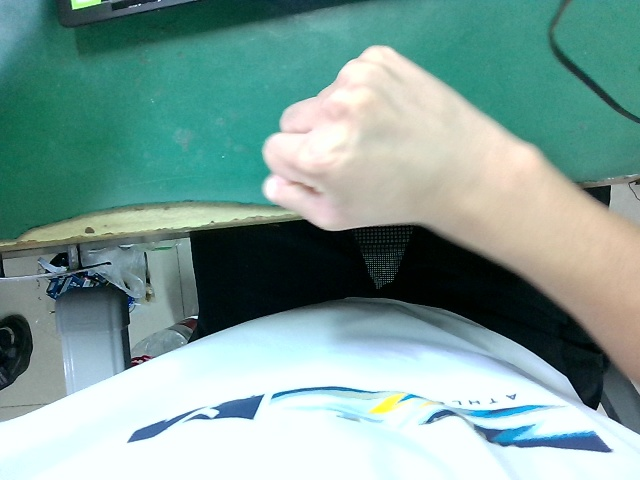stone: (255, 37, 508, 254)
